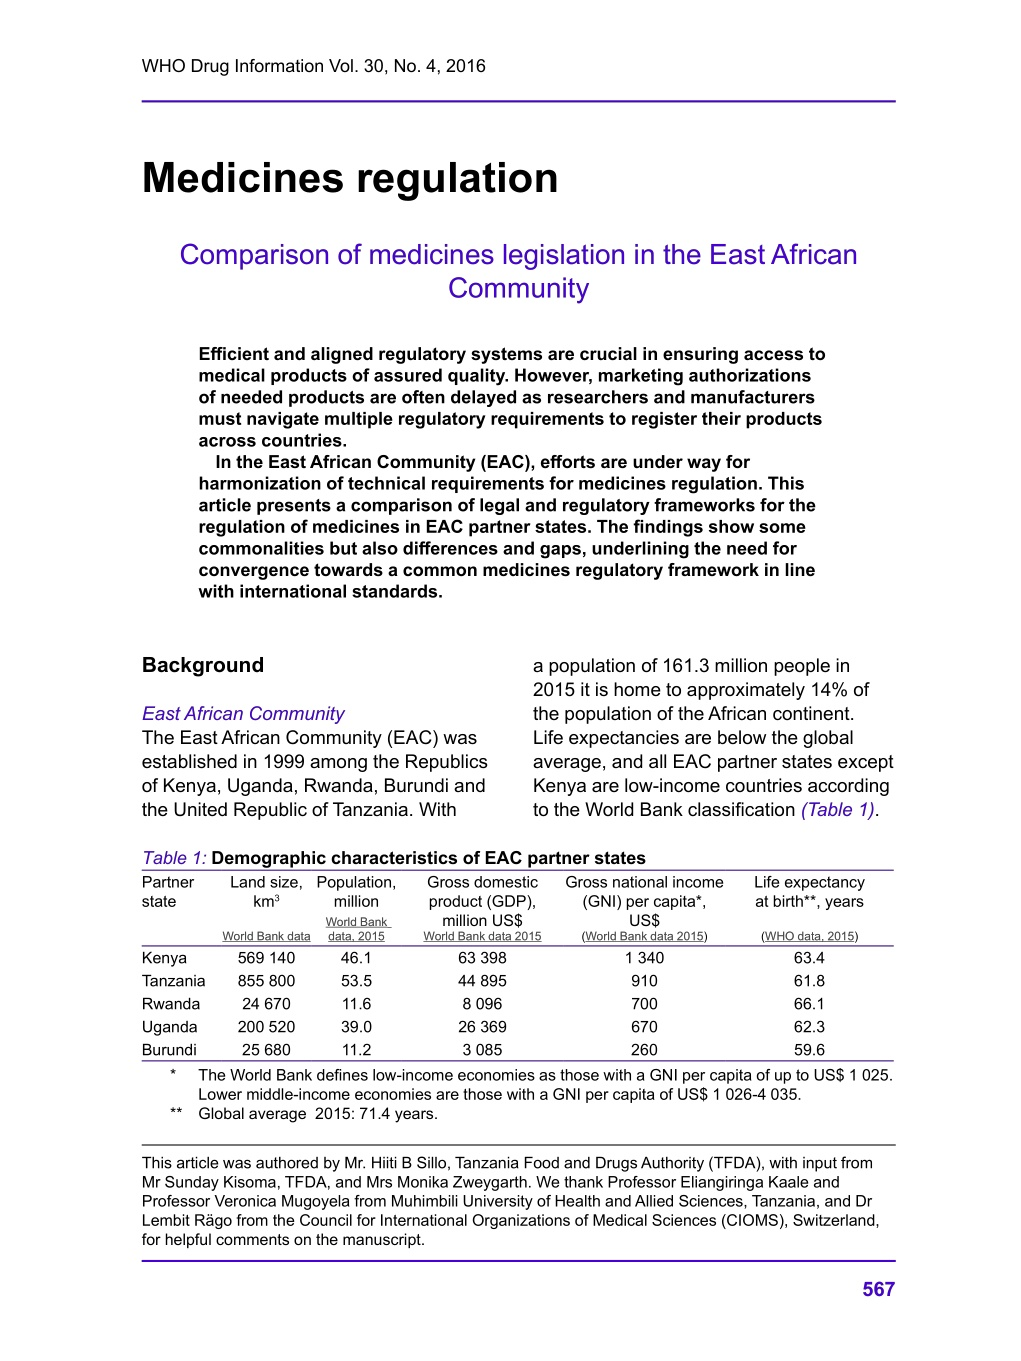partial_lined: (139, 868, 896, 1064)
